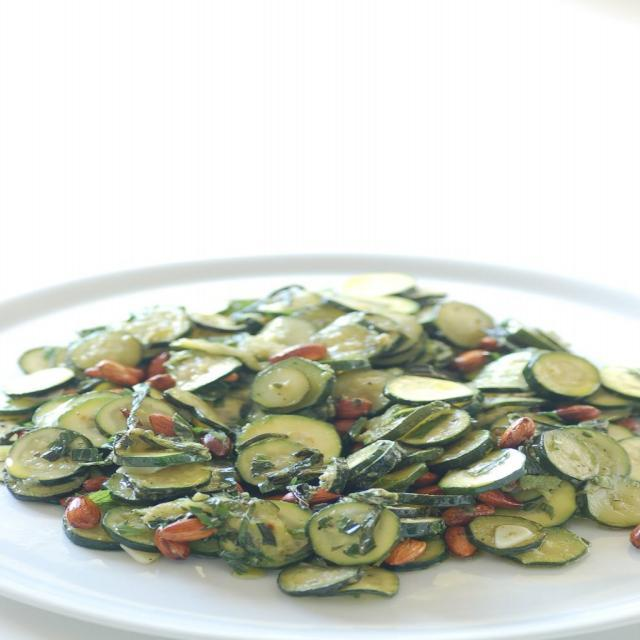Zucchini: (0, 273, 639, 598), (303, 500, 413, 568), (252, 366, 314, 406)
